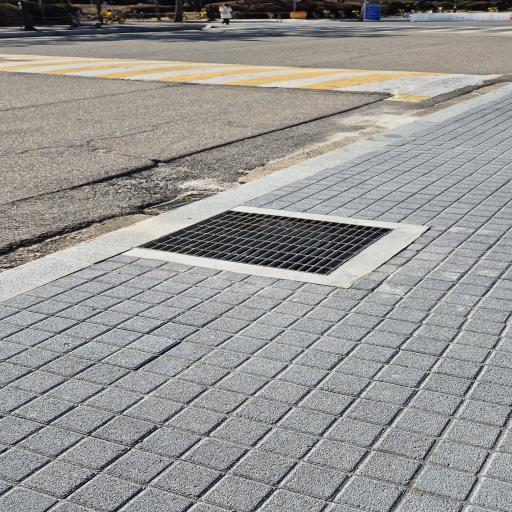drain: (142, 211, 391, 275)
